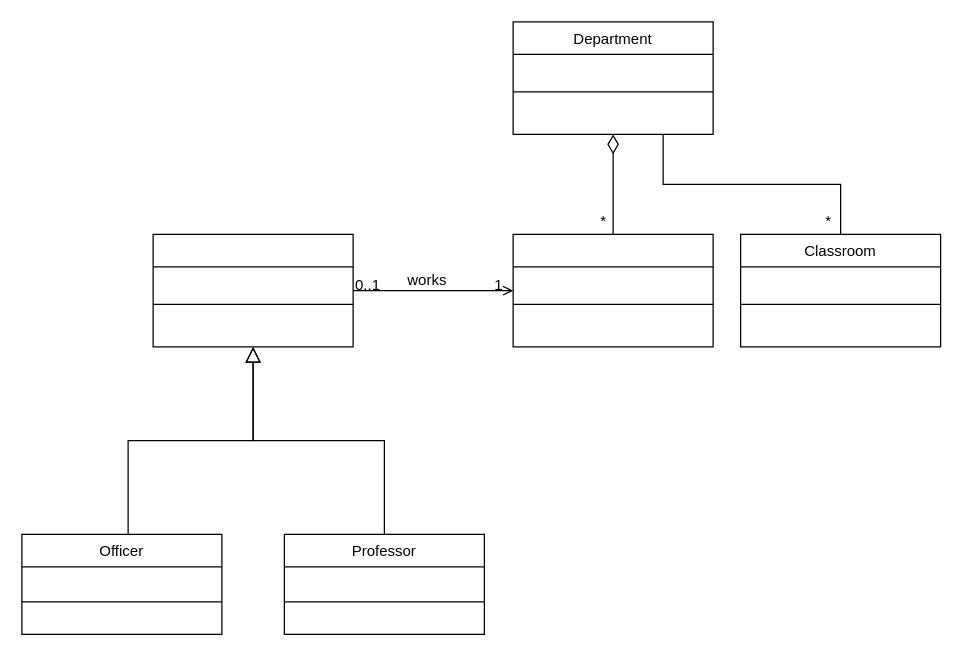
The diagram is 963 pixels wide and 656 high, and some of its shapes have lost their labels. The box of each missing label's shape, as (x1, y1, x2, y2) in pixels:
Employee: (152, 233, 353, 347)
Office: (512, 233, 713, 347)
